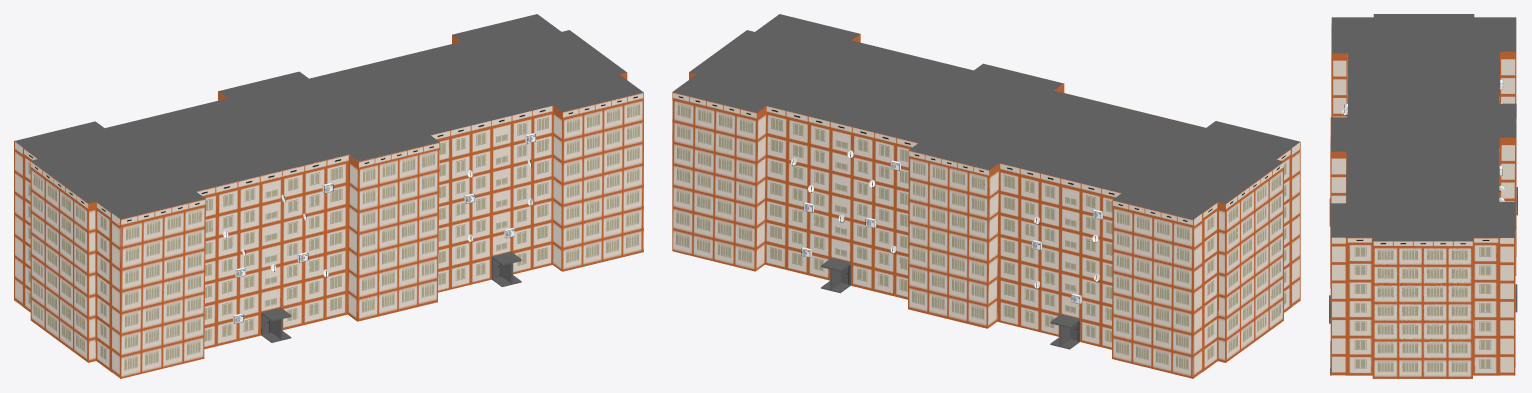
File: daynha.glb
The picture shows the model from 3 angles, left to right: view 1: azimuth 30°, elevation 25°; view 2: azimuth 150°, elevation 25°; view 3: azimuth 270°, elevation 25°; orthographic projection. The views are drawn at different scales.
Visible parts, largest first — view 1: Panel House; view 2: Panel House; view 3: Panel House.
Part boxes in pixels (left/top/right/bottom): Panel House: left=14, top=14, right=643, bottom=378; Panel House: left=672, top=14, right=1300, bottom=378; Panel House: left=1329, top=14, right=1517, bottom=378.
Size of the model in its own units: 167 by 47.3 by 58.75.
Materials: 11 (11 with a texture image).
